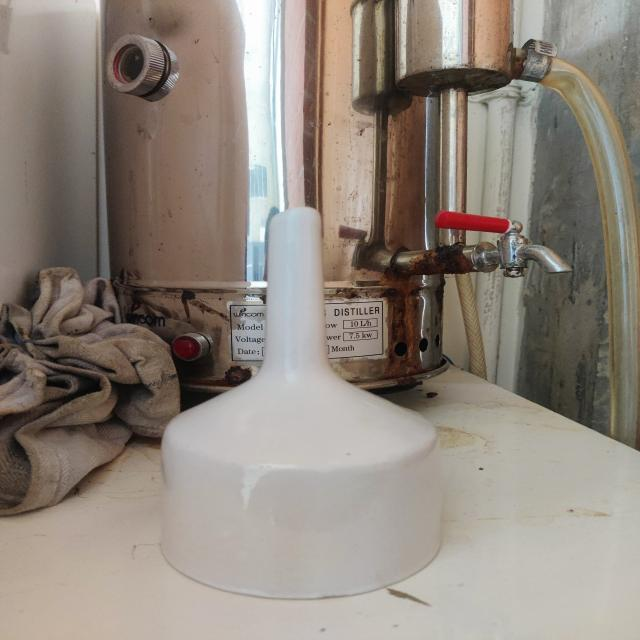Buchner_Funnel: (132, 191, 480, 614)
